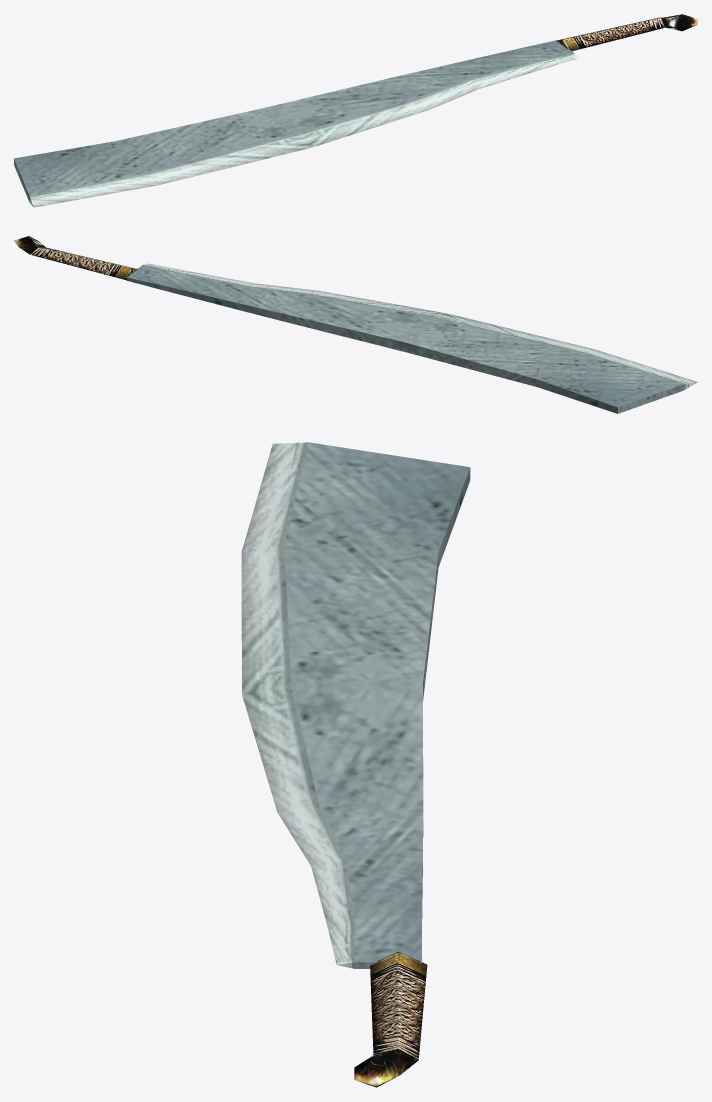
File: ITMW_1H_MACHETE_02.glb
3 views of the same model, one above another, from view 1: azimuth 30°, elevation 25°; view 2: azimuth 150°, elevation 25°; view 3: azimuth 270°, elevation 25° (orthographic). The views are drawn at different scales.
Parts seen in each view (by area): view 1: ITMW_1H_MACHETE_02; view 2: ITMW_1H_MACHETE_02; view 3: ITMW_1H_MACHETE_02.
Part boxes in pixels (bbox=[...]): ITMW_1H_MACHETE_02: bbox=[14, 14, 697, 207]; ITMW_1H_MACHETE_02: bbox=[14, 236, 697, 413]; ITMW_1H_MACHETE_02: bbox=[241, 442, 470, 1087].
Size of the model in its own units: 0.8475 by 0.02 by 0.1276.
Materials: 3 (3 with a texture image).
